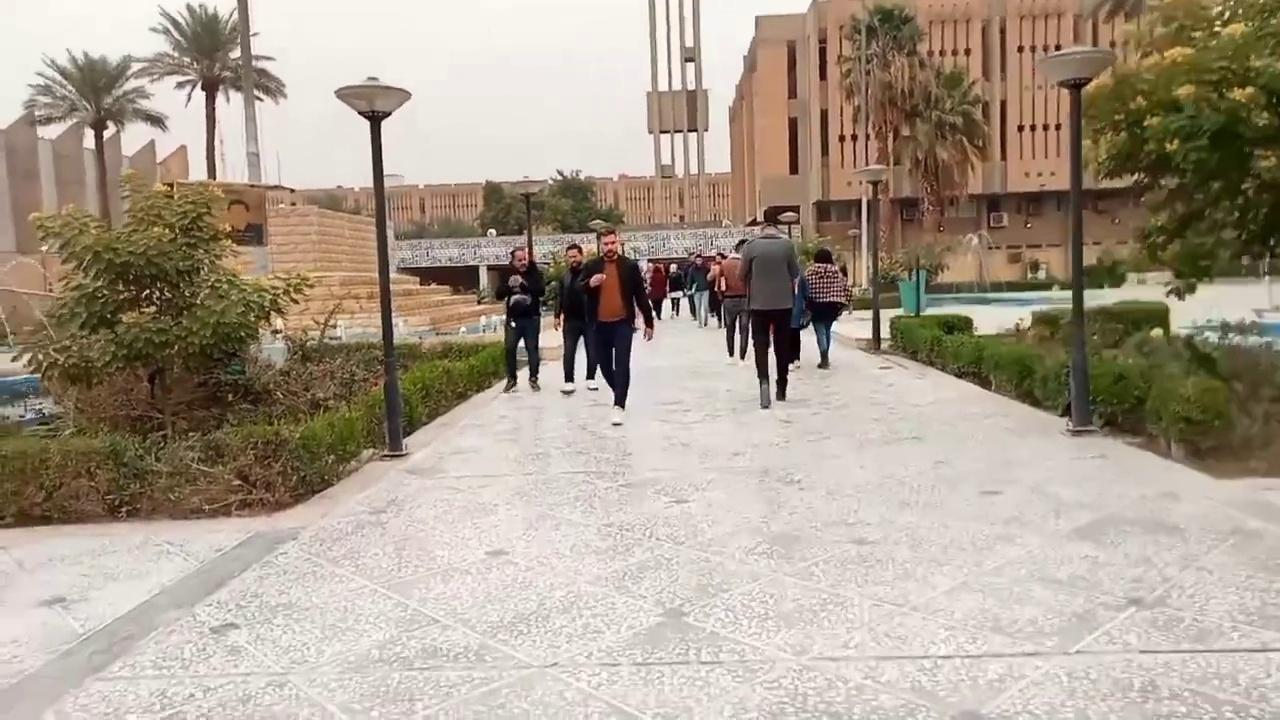fountain: (1035, 43, 1118, 436), (955, 228, 997, 295)
person: (577, 226, 655, 425), (736, 206, 800, 408), (494, 246, 545, 392), (552, 243, 599, 393), (801, 247, 848, 368), (715, 238, 751, 365)
tree: (5, 166, 315, 439), (1079, 0, 1279, 307), (834, 2, 991, 317), (130, 1, 285, 180), (21, 46, 169, 228), (227, 0, 285, 182), (541, 167, 597, 233), (478, 178, 514, 235), (794, 232, 832, 267), (590, 203, 625, 227)
